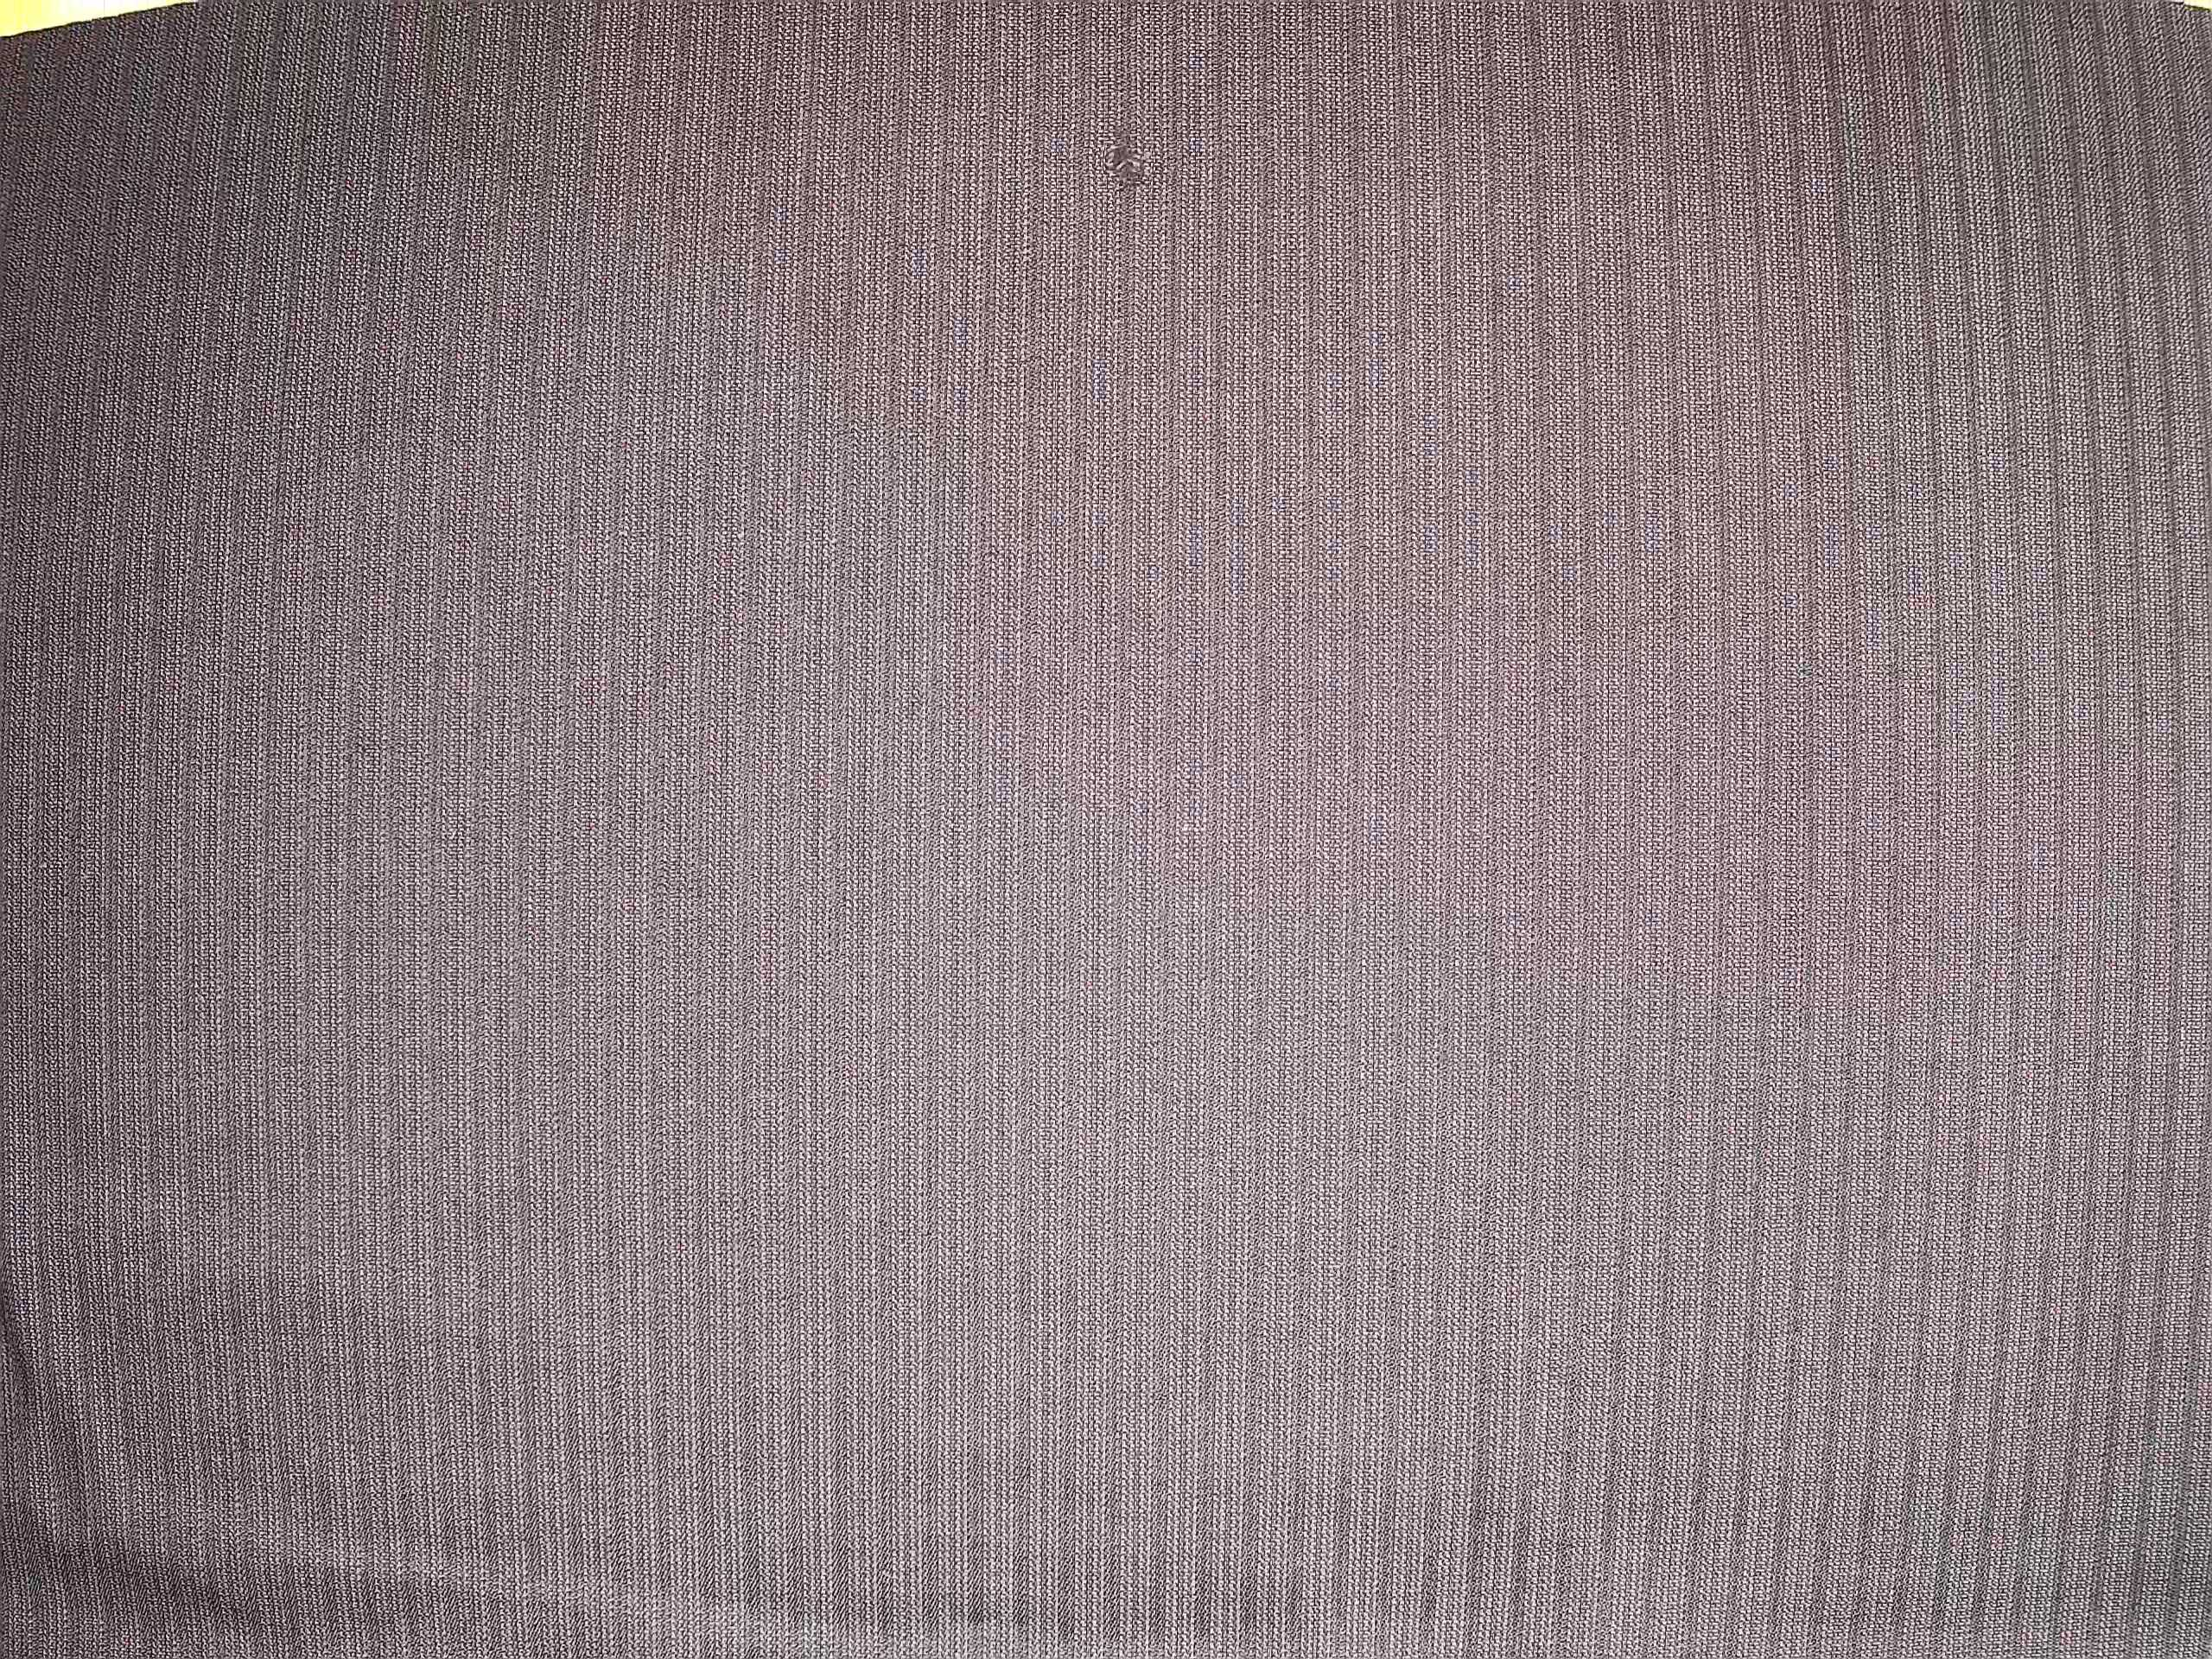rubbing-hole: (1087, 110, 1169, 202)
